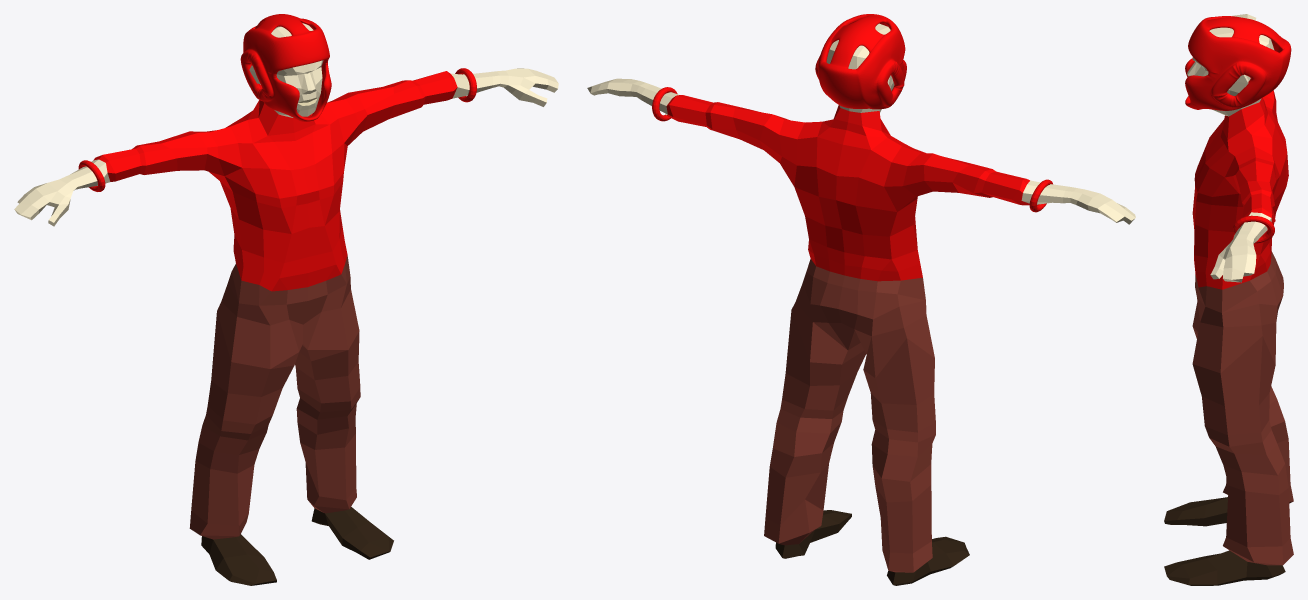
File: jagaimo man 1.FBX
3 views of the same model, side by side, from view 1: azimuth 30°, elevation 25°; view 2: azimuth 150°, elevation 25°; view 3: azimuth 270°, elevation 25° (orthographic).
Parts seen in each view (by area): view 1: game man; view 2: game man; view 3: game man.
Boxes of the visible parts, left/top/right/bottom form: game man: left=14, top=14, right=558, bottom=585; game man: left=587, top=14, right=1135, bottom=585; game man: left=1164, top=14, right=1293, bottom=585.
Size of the model in its own units: 146 by 137 by 30.43.
Materials: 1 (1 with a texture image).
